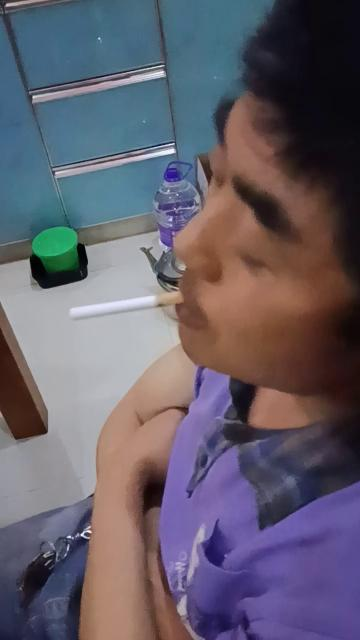Cigarette: (69, 292, 185, 321)
